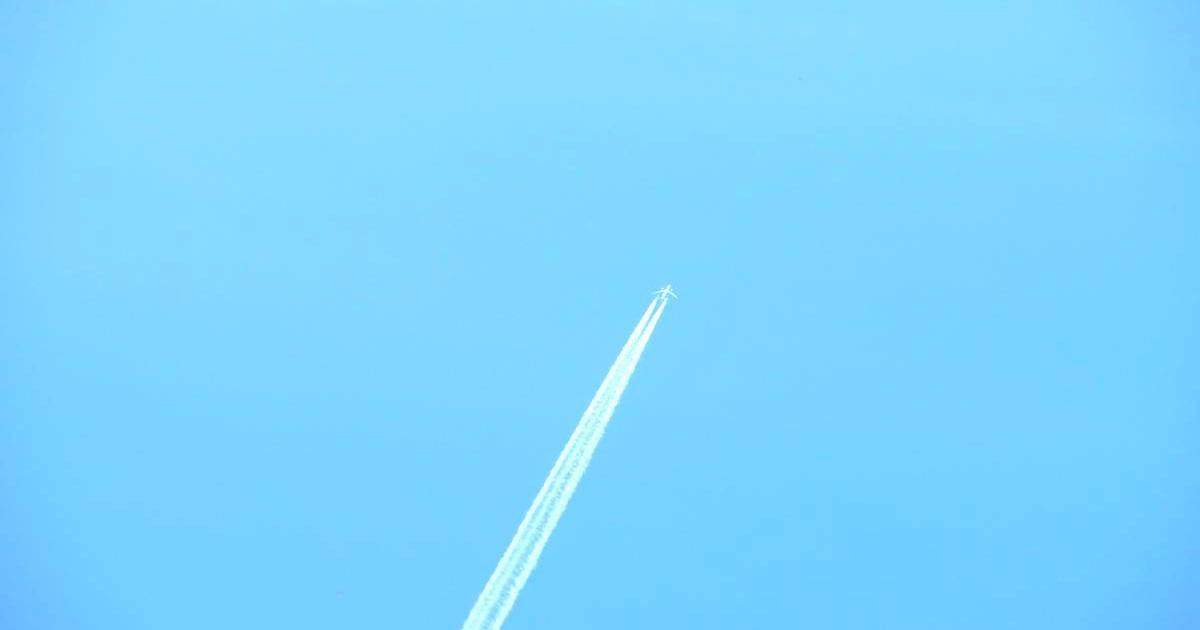Plane: (450, 225, 742, 626)
